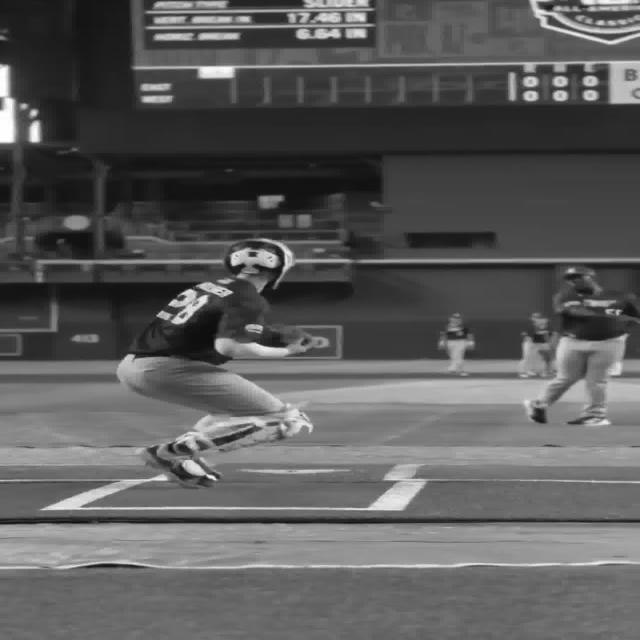baseball_glove: (264, 327, 314, 351)
shoe: (141, 443, 222, 489), (523, 399, 547, 423), (565, 416, 611, 426)
